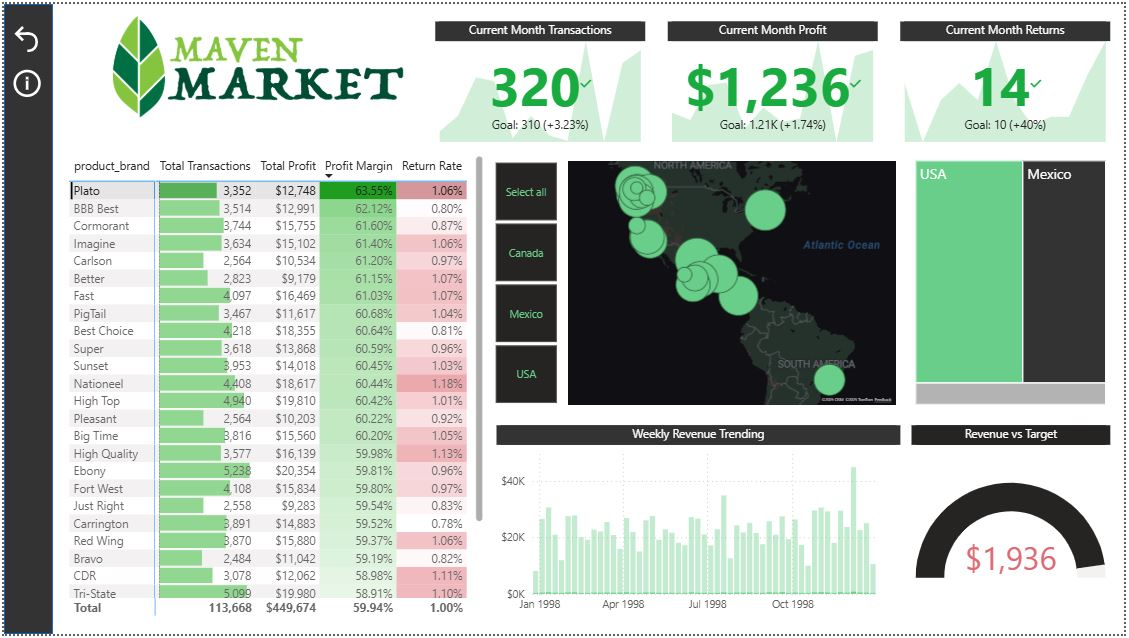

What the dashboard file says about the page in this screenshot:
{"tool":"powerbi","page":{"name":"Topline Performance","canvas":[1280,720],"ordinal":0},"visuals":[{"type":"slicer","fields":{"Values":["Stores.store_country"]},"box":[535.7,174.7,120,288.6],"z":0},{"type":"image","box":[94.3,0,388.6,142.9],"z":1000},{"type":"kpi","title":"Current Month Transactions","fields":{"Indicator":["Transactions Data.Total Transactions"],"TrendLine":["Calendar.Start of Month"],"Goal":["Transactions Data.Last Month Transactions"]},"box":[492.9,20,240,142.9],"z":2000},{"type":"pivotTable","fields":{"Values":["Transactions Data.Total Transactions","Transactions Data.Total Profit","Transactions Data.Profit Margin","Returns Data.Return Rate"],"Rows":["Products.product_brand"]},"box":[70,168.6,482.9,535.7],"z":3000},{"type":"kpi","title":"Current Month Profit","fields":{"TrendLine":["Calendar.Start of Month"],"Indicator":["Transactions Data.Total Profit"],"Goal":["Transactions Data.Last Month Profit"]},"box":[758.6,20,240,142.9],"z":4000},{"type":"kpi","title":"Current Month Returns","fields":{"TrendLine":["Calendar.Start of Month"],"Indicator":["Returns Data.Total Returns"],"Goal":["Returns Data.Last Month Returns"]},"box":[1024.3,20,240,142.9],"z":5000},{"type":"azureMap","fields":{"Size":["Transactions Data.Total Transactions"],"Category":["Stores.store_city"]},"box":[640,174.3,384.3,288.6],"z":6000},{"type":"treemap","fields":{"Values":["Transactions Data.Total Transactions"],"Group":["Stores.store_country","Stores.store_city","Stores.store_state"]},"box":[1037.1,174.3,227.1,288.6],"z":7000},{"type":"clusteredColumnChart","title":"Weekly Revenue Trending","fields":{"Y":["Transactions Data.Total Revenue"],"Category":["Calendar.Start of Week"]},"box":[562.9,481.4,461.4,222.9],"z":8000},{"type":"gauge","title":"Revenue vs Target","fields":{"Y":["Transactions Data.Total Revenue"],"MaxValue":["Transactions Data.Revenue Target"]},"box":[1037.1,481.4,227.1,222.9],"z":9000},{"type":"shape","box":[0,0,55.7,720],"z":10000},{"type":"actionButton","box":[6,20,45,40],"z":11000},{"type":"actionButton","box":[5.7,70,44.3,41.4],"z":12000}]}

Visuals, with their boxes on the page's 1280x720 design canvas (x1, y1, x2, y2). These are canvas units, not pixel positions in the 1129x638 screenshot, which may show the page scaled, cropped or inside an application window:
slicer - Stores.store_country: 536 175 656 463
image: 94 0 483 143
"Current Month Transactions" kpi: 493 20 733 163
pivotTable - Transactions Data.Total Transactions x Transactions Data.Total Profit: 70 169 553 704
"Current Month Profit" kpi: 759 20 999 163
"Current Month Returns" kpi: 1024 20 1264 163
azureMap - Transactions Data.Total Transactions x Stores.store_city: 640 174 1024 463
treemap - Transactions Data.Total Transactions x Stores.store_country: 1037 174 1264 463
"Weekly Revenue Trending" clusteredColumnChart: 563 481 1024 704
"Revenue vs Target" gauge: 1037 481 1264 704
shape: 0 0 56 720
actionButton: 6 20 51 60
actionButton: 6 70 50 111
